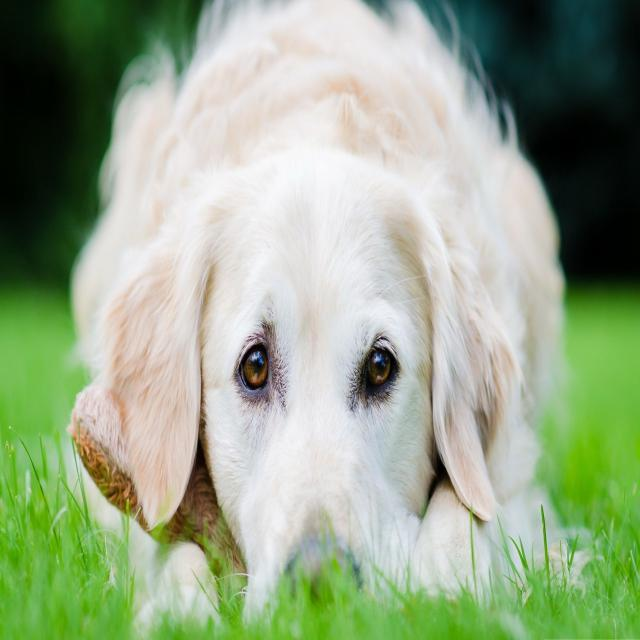eye: (361, 338, 397, 399), (236, 339, 272, 394)
